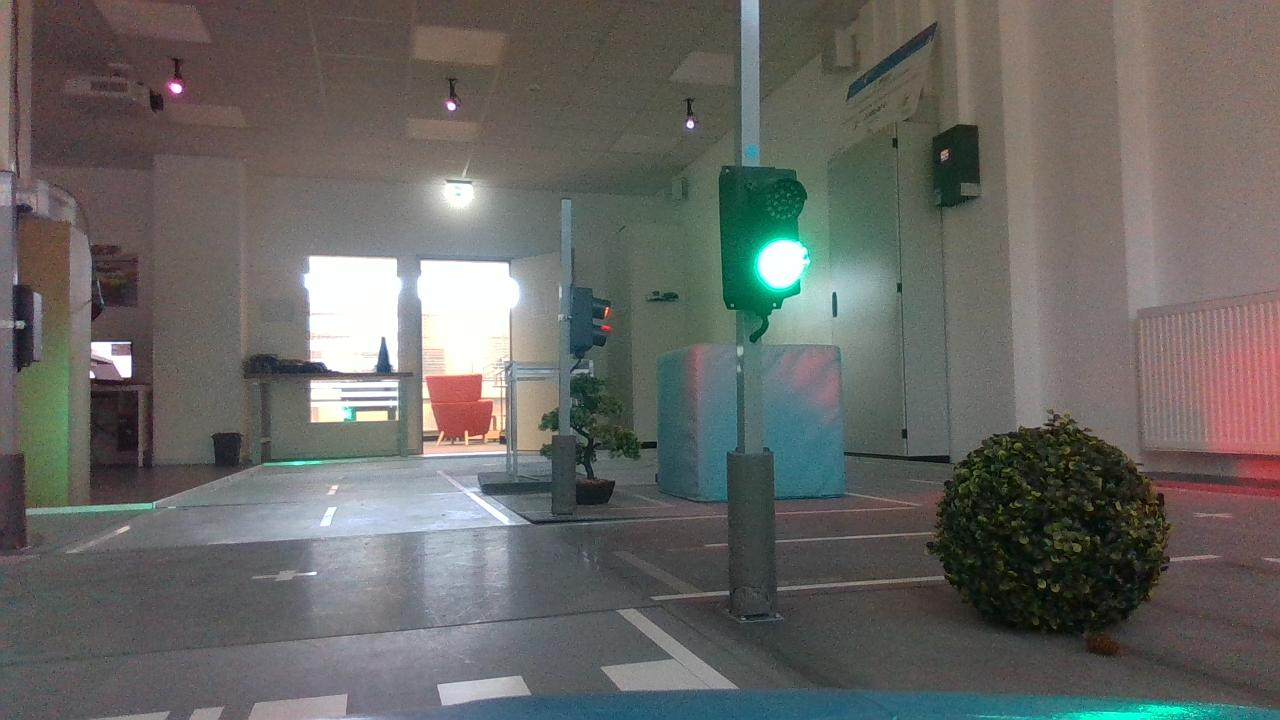traffic_light_green: (708, 151, 818, 320)
